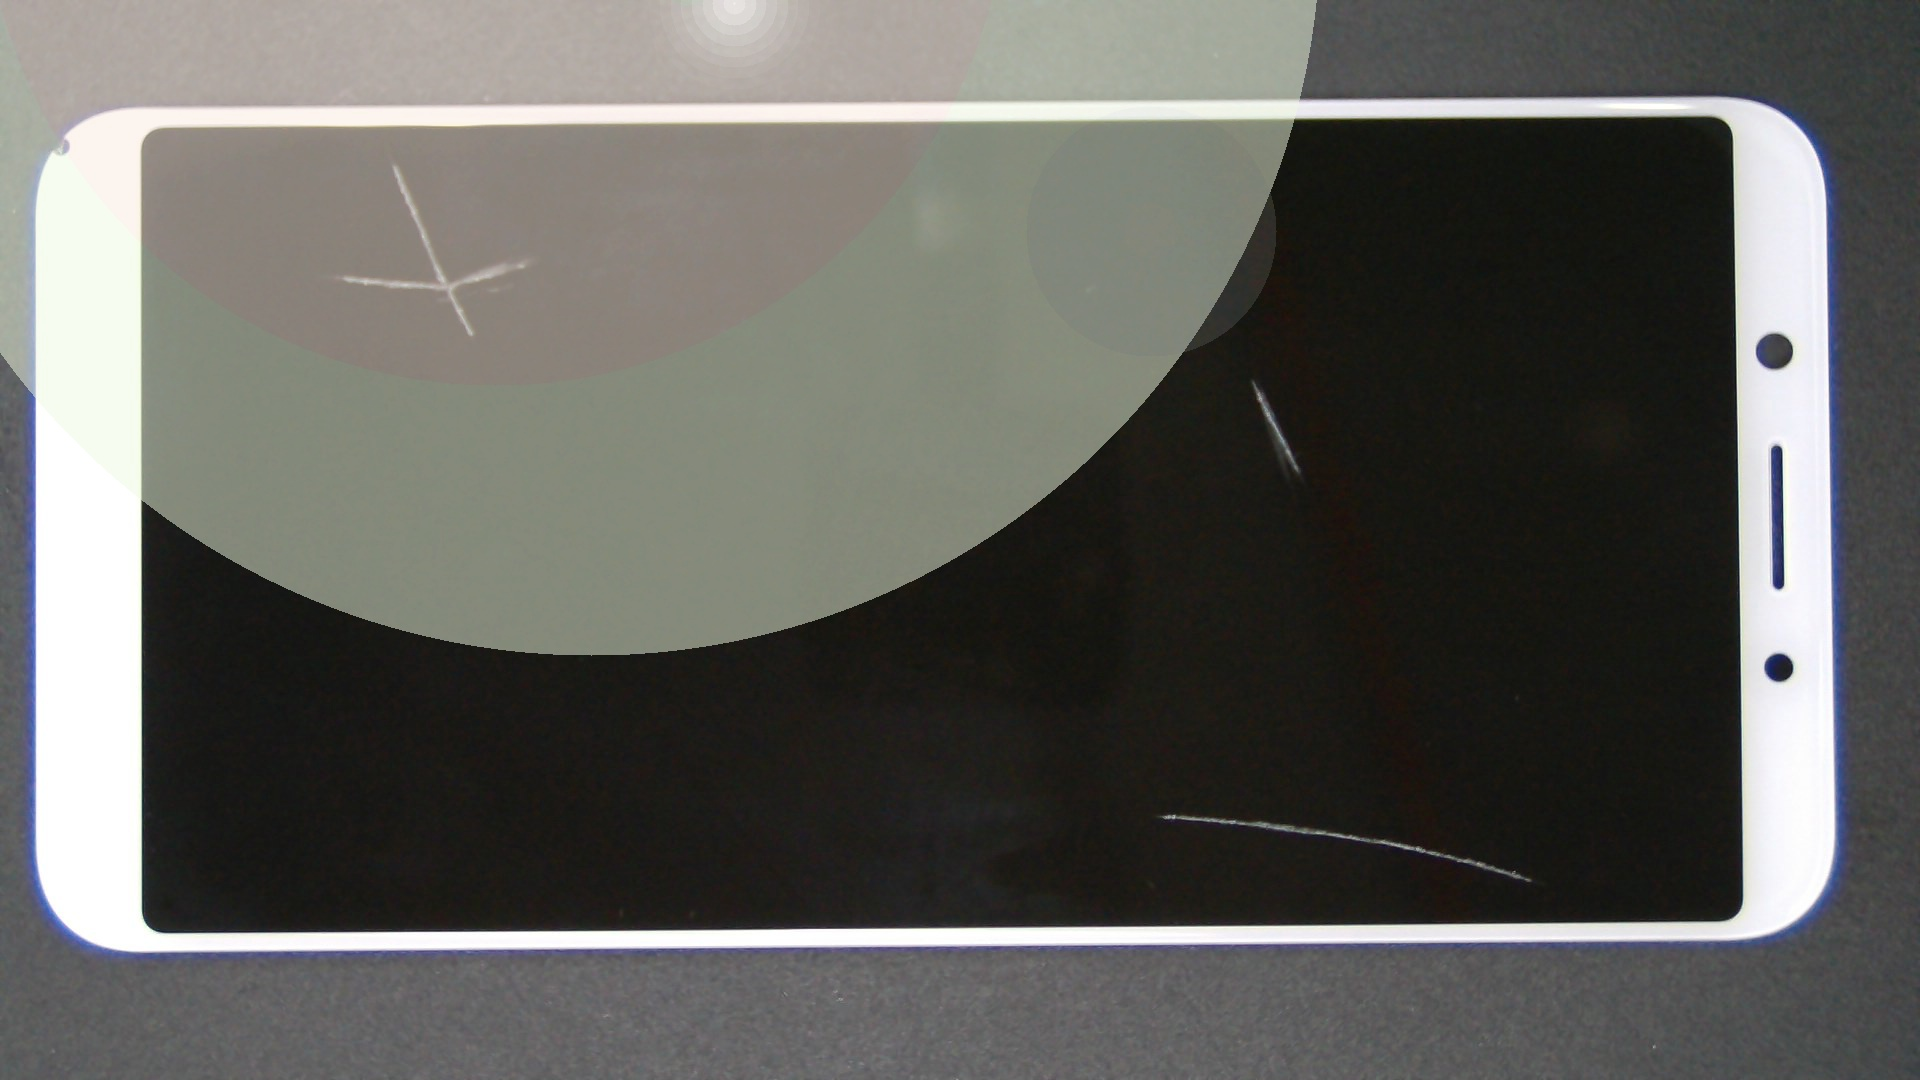oil: (584, 406, 1750, 1080), (629, 187, 1879, 568), (199, 80, 593, 244)
